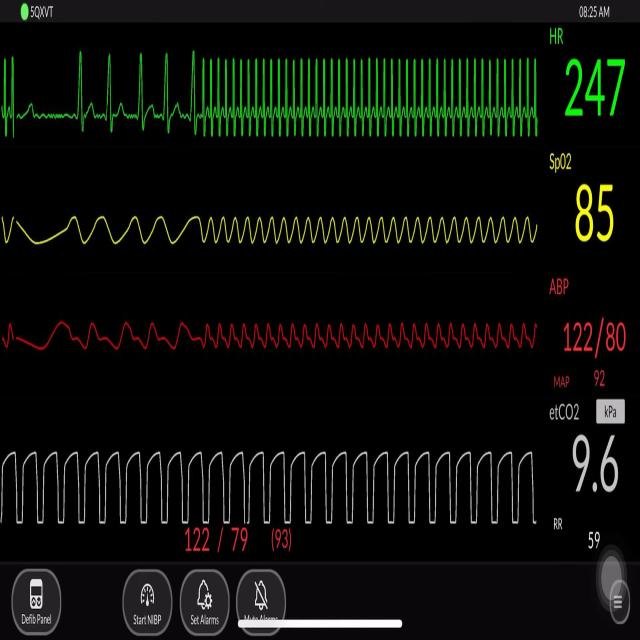danger: (200, 40, 543, 151), (4, 45, 18, 148)
